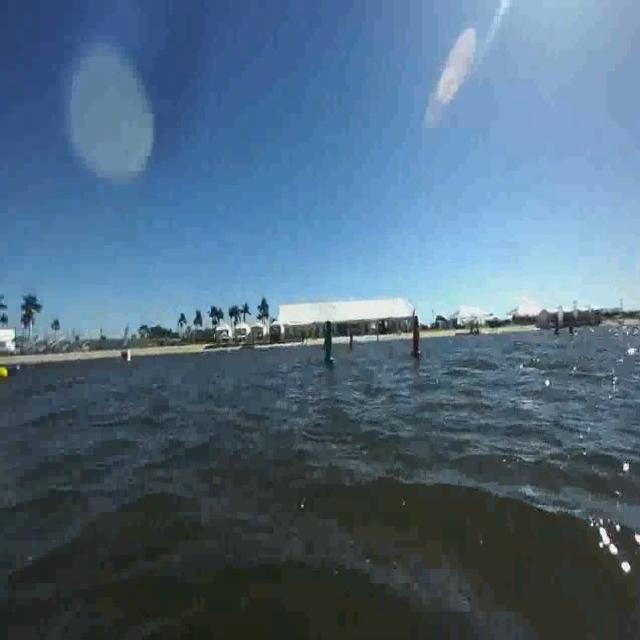green-column-buoy: (324, 321, 335, 367)
red-column-buoy: (412, 322, 421, 359)
